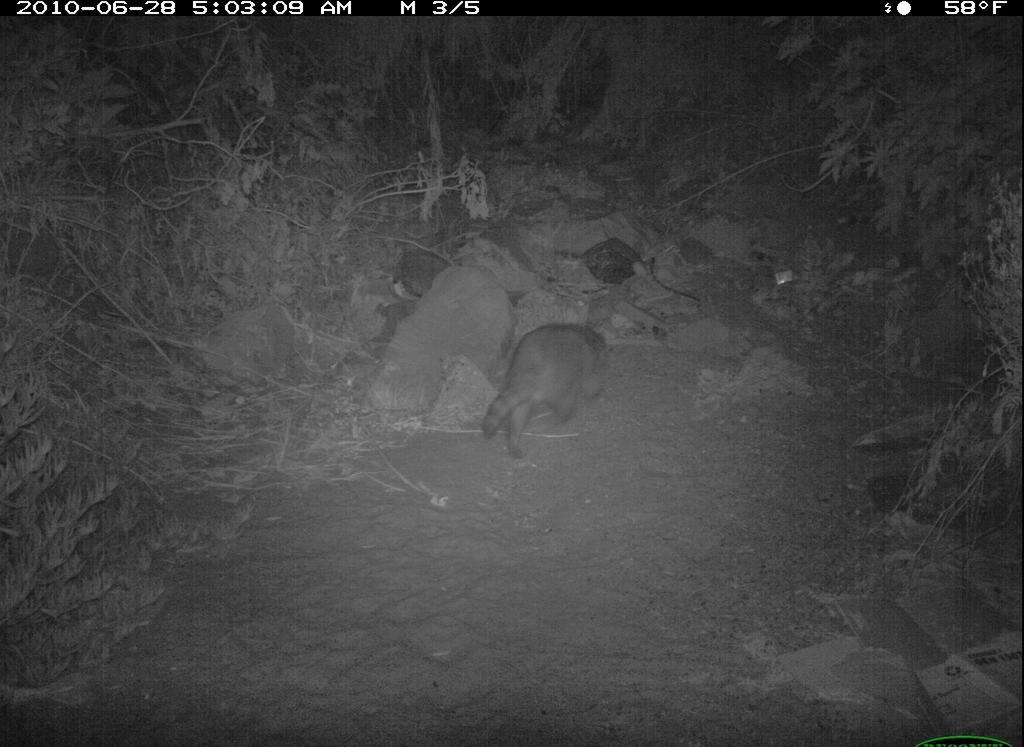raccoon: (477, 323, 614, 466)
